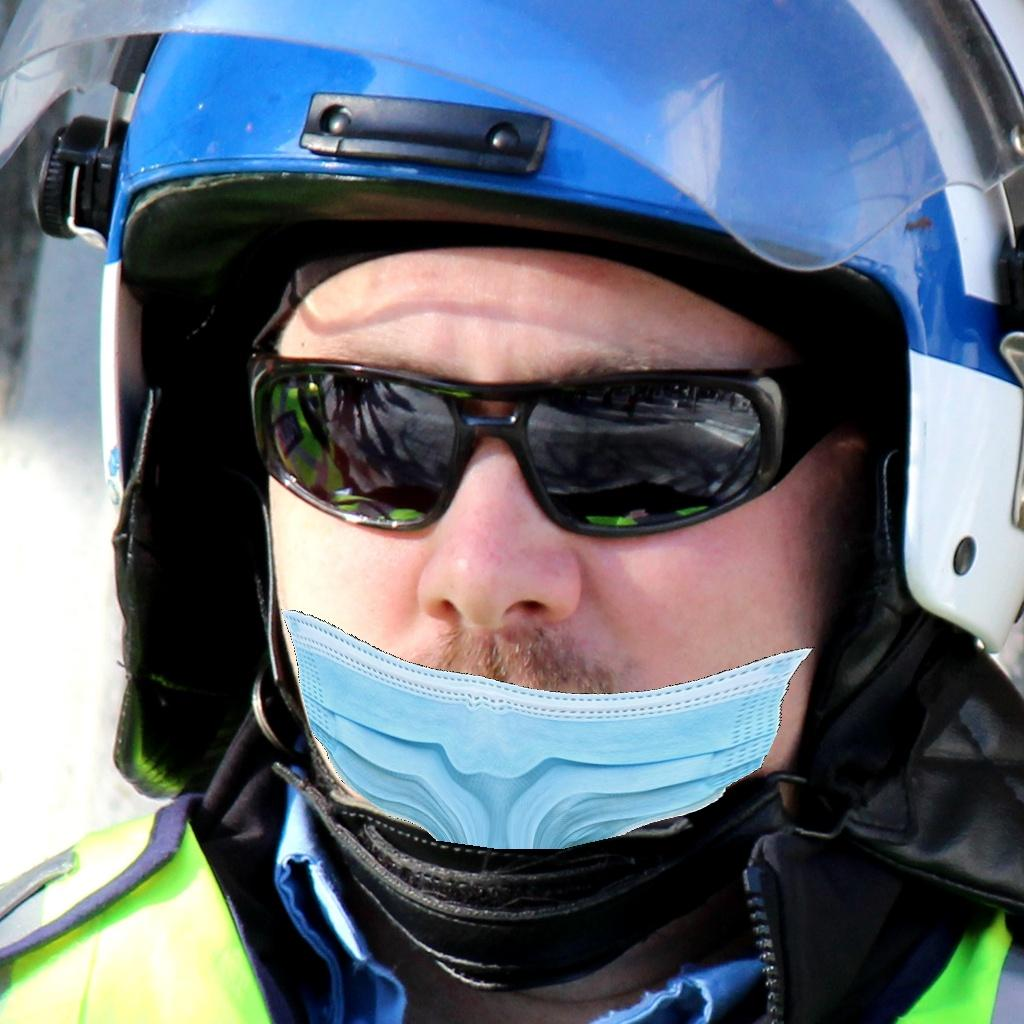Máscara Incorreta: (235, 272, 820, 863)
